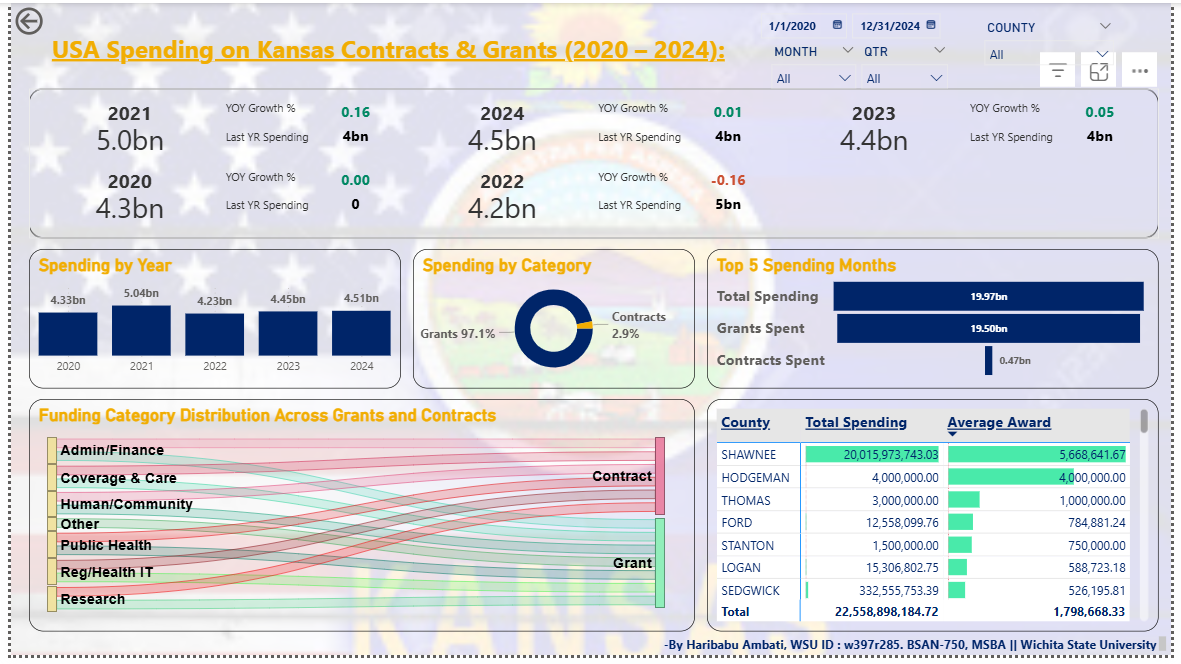

The page's visual inventory and layout, read from the dashboard file:
{"tool":"powerbi","page":{"name":"HHS_Spending","canvas":[1280,720],"ordinal":0},"visuals":[{"type":"actionButton","box":[0,0,100,40],"z":0},{"type":"clusteredColumnChart","title":"Spending by Year","fields":{"Y":["_Measures.Total Spending"],"Category":["Calendar.Year"]},"box":[20,226.7,408.3,198.3],"z":1000},{"type":"clusteredBarChart","title":"Spending by City Performance","fields":{"Y":["_Measures.Total Spending"],"Category":["USAspending_HHS_Kansas.primary_place_of_performance_city_name"]},"box":[769.1,224.9,493.2,198.4],"z":2000},{"type":"card","fields":{"Values":["_Measures.Total Spending"]},"box":[19.2,96.7,234.5,115.4],"z":3000},{"type":"donutChart","title":"Spending by Category","fields":{"Y":["_Measures.Total Spending"],"Category":["USAspending_HHS_Kansas.Category"]},"box":[440,225,310,198.3],"z":4000},{"type":"slicer","fields":{"Values":["Calendar.Date"]},"box":[814.5,1.9,230.6,54.8],"z":5000},{"type":"card","fields":{"Values":["_Measures.Avg Award"]},"box":[768.3,96.7,276.7,115],"z":6000},{"type":"slicer","fields":{"Values":["Calendar.Quarter"]},"box":[929.8,39.7,115.3,54.8],"z":7000},{"type":"lineChart","title":"Spending by Month & Category","fields":{"Y":["_Measures.Total Spending"],"Series":["USAspending_HHS_Kansas.Category"],"Category":["Calendar.Year","Calendar.Month","Calendar.Day"]},"box":[20,436.7,730,256.7],"z":8000},{"type":"textbox","box":[0,26.5,833.4,68],"z":9000},{"type":"slicer","fields":{"Values":["USAspending_HHS_Kansas.recipient_county_name"]},"box":[1065.8,13.2,162.5,83.2],"z":10000},{"type":"card","fields":{"Values":["_Measures.YoY Growth %"]},"box":[546.7,95,203.3,116.7],"z":11000},{"type":"slicer","fields":{"Values":["Calendar.Month"]},"box":[829.6,39.7,113.4,54.8],"z":12000},{"type":"pivotTable","fields":{"Rows":["USAspending_HHS_Kansas.recipient_county_name"],"Values":["_Measures.Total Spending","_Measures.Avg Award"]},"box":[769.1,436.5,493.2,257],"z":13000},{"type":"card","fields":{"Values":["_Measures.Distinct Recipients"]},"box":[1066.7,98.3,195,113.3],"z":14000},{"type":"textbox","box":[716.7,693.3,563.3,26.7],"z":15000},{"type":"card","fields":{"Values":["_Measures.Total Spending Last Year"]},"box":[275.6,92.2,253.3,120],"z":16000}]}

Visuals, with their boxes in screenshot pixels (x1, y1, x2, y2), scaled from the page's 1280x720 canvas onto the 1181x664 screenshot:
actionButton: (x1=0, y1=0, x2=92, y2=37)
"Spending by Year" clusteredColumnChart: (x1=18, y1=209, x2=395, y2=392)
"Spending by City Performance" clusteredBarChart: (x1=710, y1=207, x2=1165, y2=390)
card - _Measures.Total Spending: (x1=18, y1=89, x2=234, y2=196)
"Spending by Category" donutChart: (x1=406, y1=208, x2=692, y2=390)
slicer - Calendar.Date: (x1=752, y1=2, x2=964, y2=52)
card - _Measures.Avg Award: (x1=709, y1=89, x2=964, y2=195)
slicer - Calendar.Quarter: (x1=858, y1=37, x2=964, y2=87)
"Spending by Month & Category" lineChart: (x1=18, y1=403, x2=692, y2=639)
textbox: (x1=0, y1=24, x2=769, y2=87)
slicer - USAspending_HHS_Kansas.recipient_county_name: (x1=983, y1=12, x2=1133, y2=89)
card - _Measures.YoY Growth %: (x1=504, y1=88, x2=692, y2=195)
slicer - Calendar.Month: (x1=765, y1=37, x2=870, y2=87)
pivotTable - USAspending_HHS_Kansas.recipient_county_name x _Measures.Total Spending: (x1=710, y1=403, x2=1165, y2=640)
card - _Measures.Distinct Recipients: (x1=984, y1=91, x2=1164, y2=195)
textbox: (x1=661, y1=639, x2=1180, y2=663)
card - _Measures.Total Spending Last Year: (x1=254, y1=85, x2=488, y2=196)
